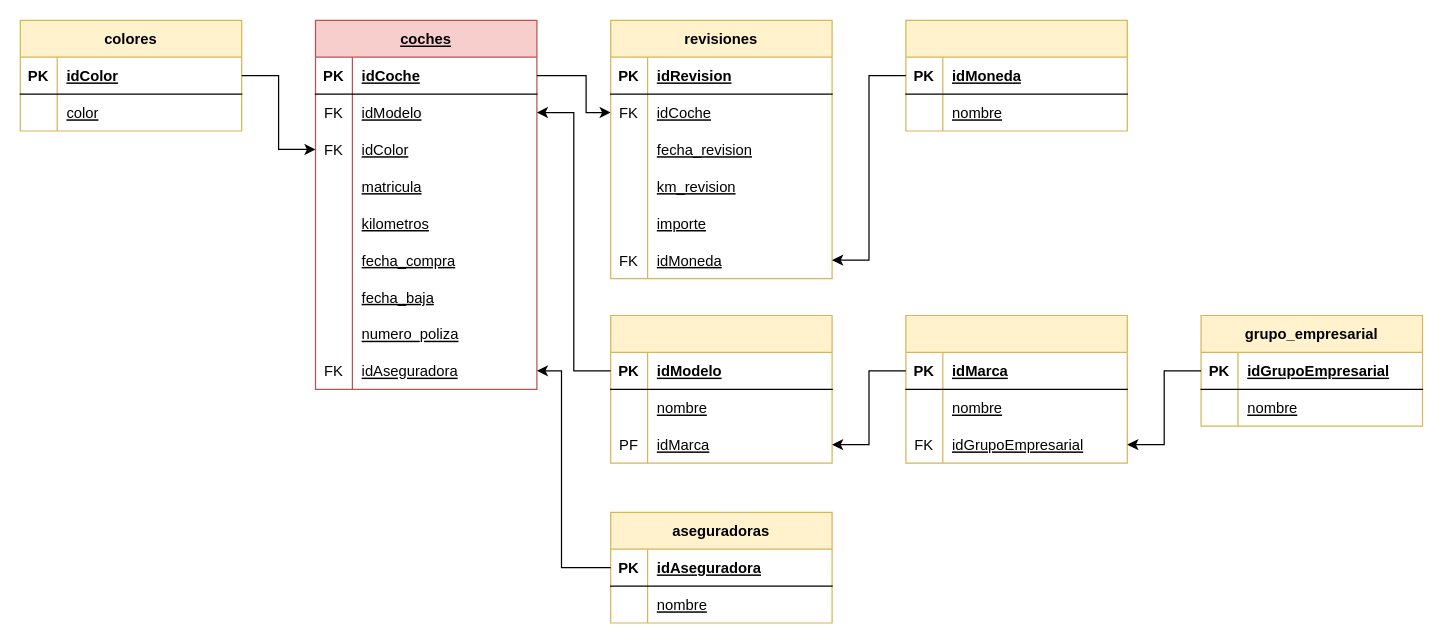
The diagram is 1443 pixels wide and 643 high, and some of its shapes have lost their labels. Each missing label, with the box of its shape:
marcas: (905, 314, 1127, 463)
modelos: (609, 314, 832, 463)
tipos_moneda: (905, 19, 1127, 131)
